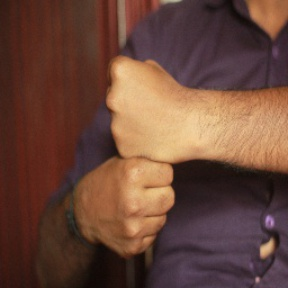G: (87, 54, 203, 254)
